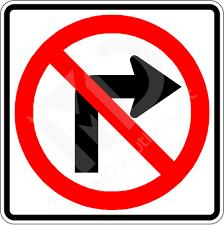no_right_turn: (15, 12, 209, 209)
